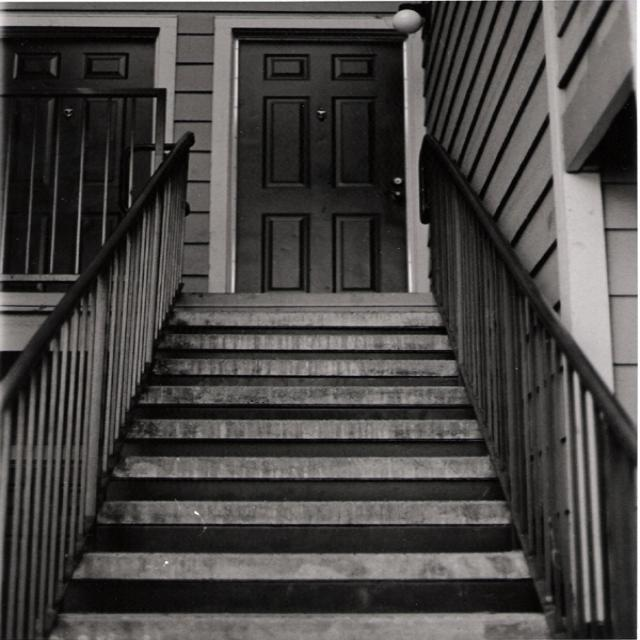stairs: (46, 289, 559, 639)
